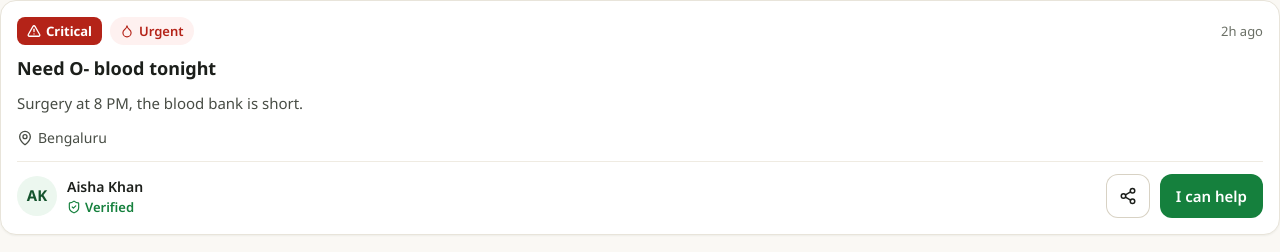
Test case: ShareButton › announces 'Link copied' politely after copying
Click the button named "Share request". click: (1128, 196)
box: [1106,174,1150,218]
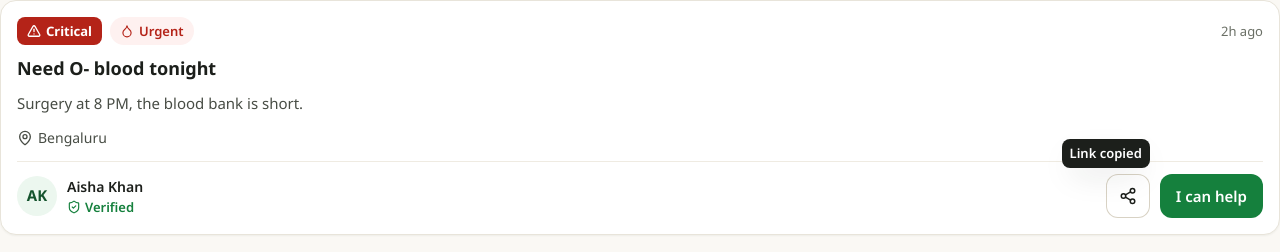
Check: the message reads "Link copied", box [1070,144,1142,162]
